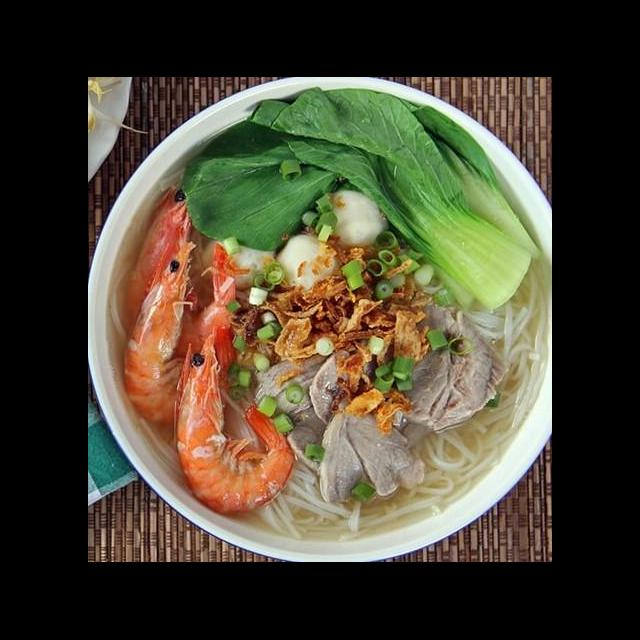banh hu tieu: (437, 260, 552, 453), (257, 442, 370, 546)
hu tieu: (89, 107, 549, 562)
thit heo: (251, 336, 375, 478), (388, 296, 506, 438), (311, 392, 433, 507)
tom: (169, 328, 299, 520), (119, 236, 244, 430), (126, 180, 240, 376)
trung: (306, 186, 391, 252), (195, 228, 282, 290), (275, 230, 345, 298)
